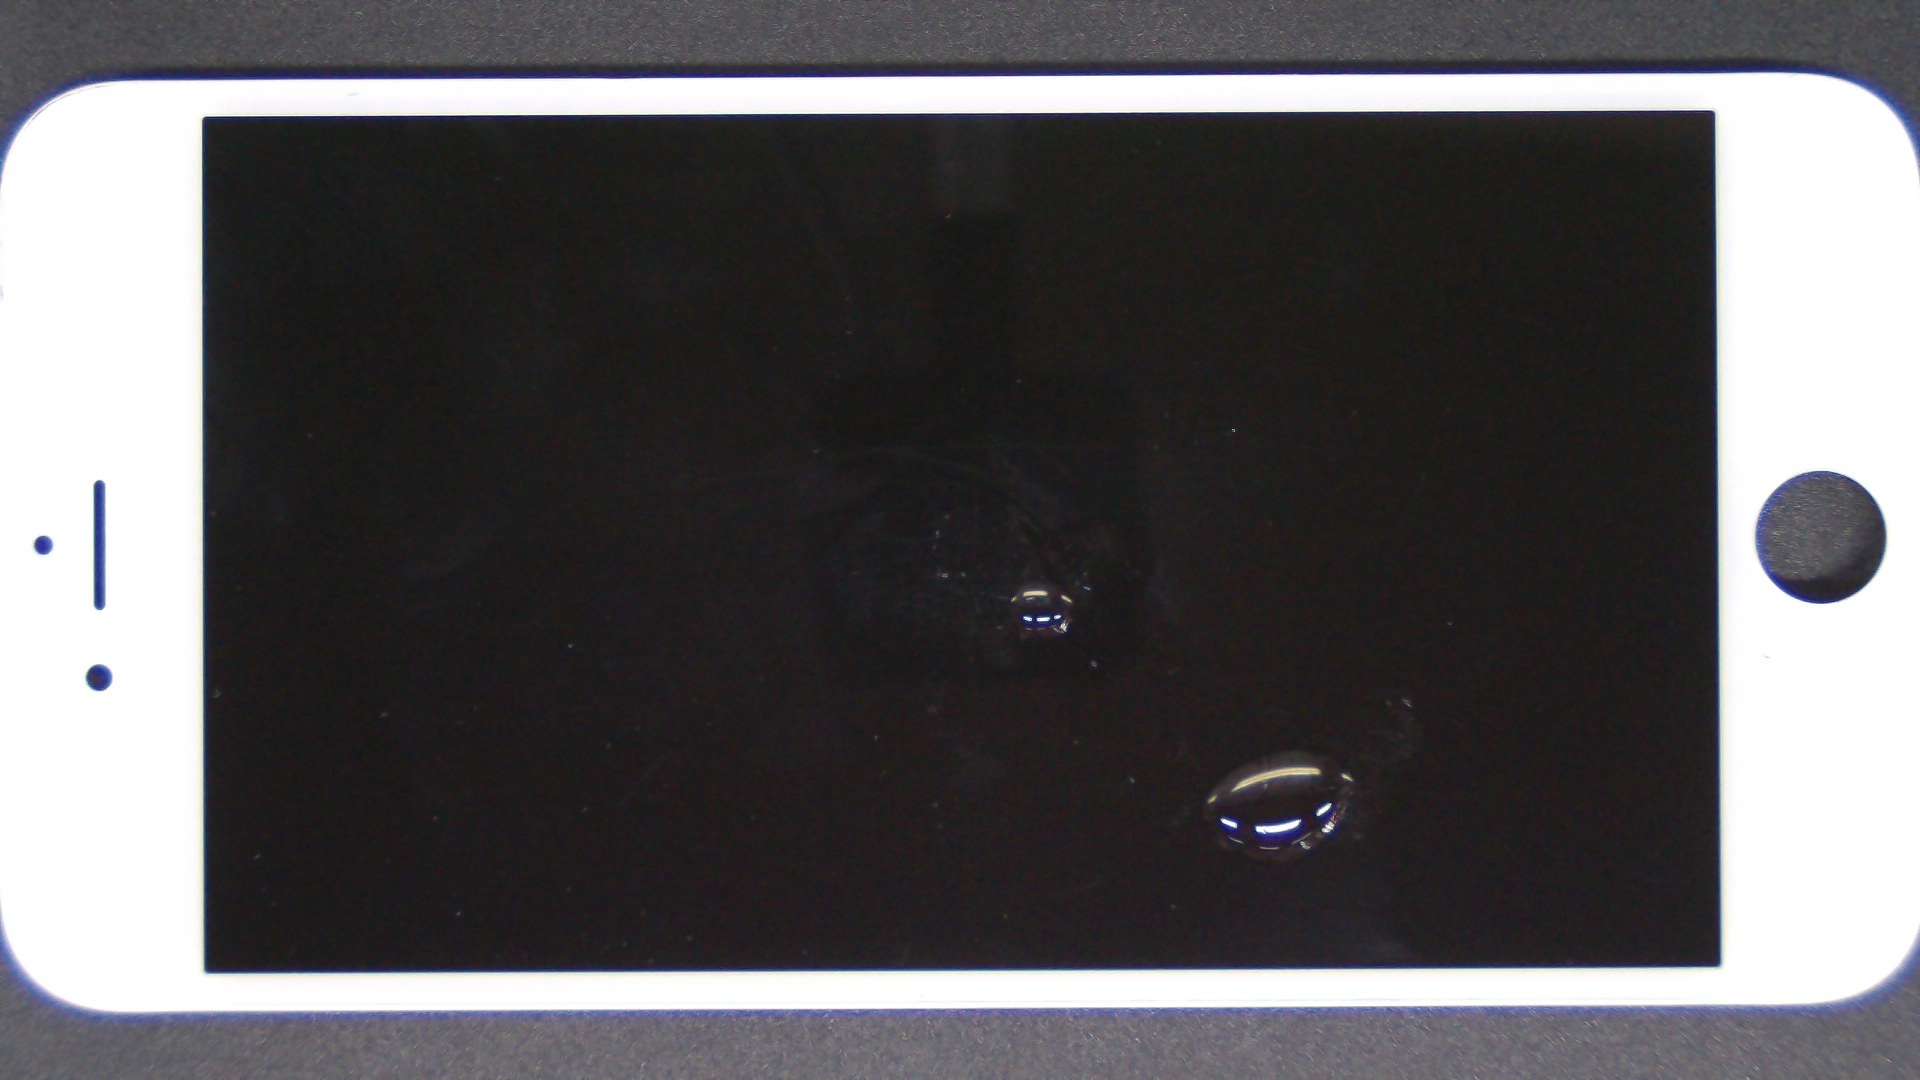oil: (645, 375, 1920, 1080), (518, 290, 1553, 872)
